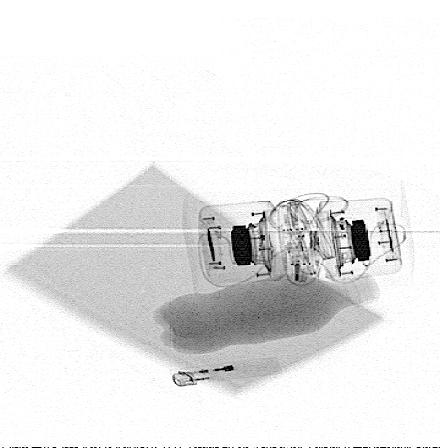Lighter: (170, 357, 284, 388)
